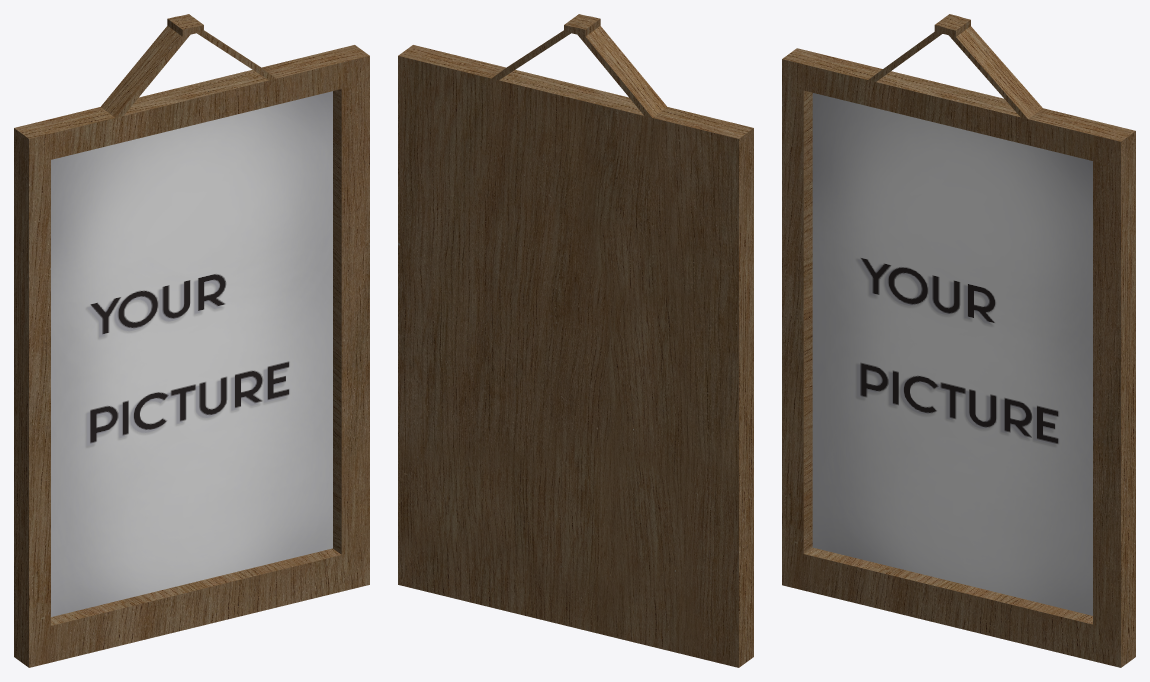
The model's file is PictureFrame.fbx.
3 renders of one model, left to right at view 1: azimuth 30°, elevation 25°; view 2: azimuth 150°, elevation 25°; view 3: azimuth 330°, elevation 25°, orthographic.
Visible parts, largest first — view 1: Picture_Frame_1; view 2: Picture_Frame_1; view 3: Picture_Frame_1.
Part boxes in pixels (x1=…): Picture_Frame_1: x1=14, y1=14, x2=369, y2=667; Picture_Frame_1: x1=398, y1=14, x2=753, y2=667; Picture_Frame_1: x1=782, y1=14, x2=1135, y2=667.
Bounding box in the file's own units: 200 × 337 × 15.29.
